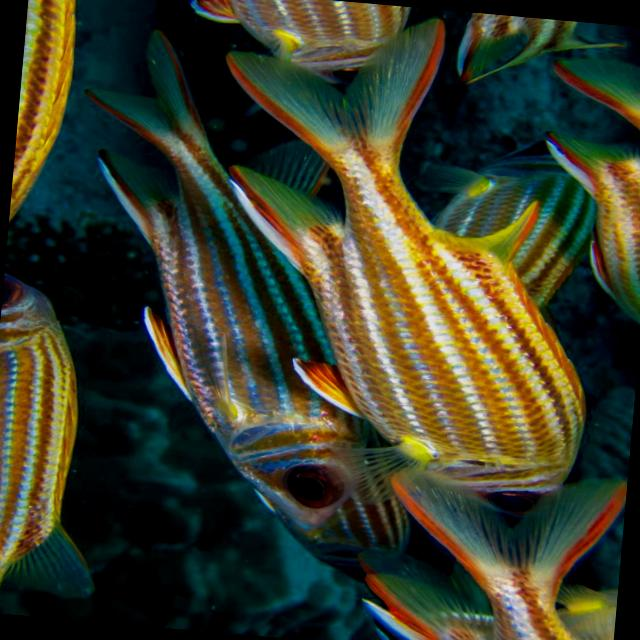Asker Baligi: (170, 0, 634, 534), (37, 15, 416, 540)
